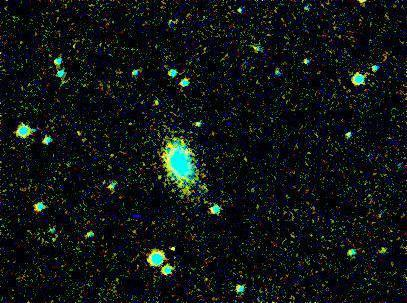star: (154, 235, 184, 265)
